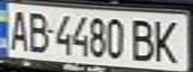0: (106, 15, 130, 61)
4: (51, 11, 72, 56), (69, 12, 90, 57)
8: (87, 14, 109, 58)
A: (3, 7, 30, 52)
B: (127, 16, 160, 63), (24, 8, 51, 53)
K: (148, 17, 184, 64)
